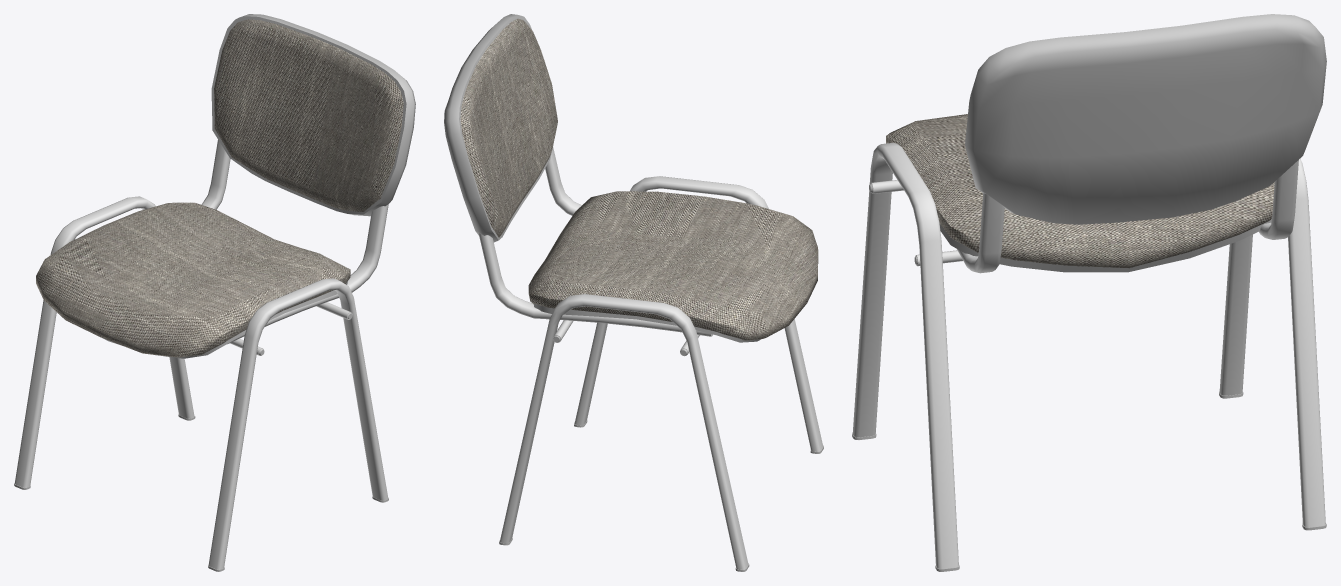
File: silla.fbx
3 renders of one model, left to right at view 1: azimuth 30°, elevation 25°; view 2: azimuth 150°, elevation 25°; view 3: azimuth 270°, elevation 25°, orthographic. The views are drawn at different scales.
Parts seen in each view (by area): view 1: sidushka.001, spinka.001, BezierCurve.003, spinka, BezierCurve.004, sidushka; view 2: sidushka.001, spinka.001, BezierCurve.003, spinka, BezierCurve.004, sidushka; view 3: spinka, BezierCurve.003, sidushka.001, BezierCurve.004, sidushka.
Part boxes in pixels (x1,y1,x2,y2): sidushka.001: (36, 202, 350, 357); spinka.001: (214, 19, 403, 211); BezierCurve.003: (14, 196, 388, 569); spinka: (211, 14, 415, 216); BezierCurve.004: (201, 140, 388, 344); sidushka: (103, 281, 347, 358); sidushka.001: (528, 191, 818, 340); spinka.001: (460, 18, 557, 237); BezierCurve.003: (500, 176, 823, 569); spinka: (444, 14, 551, 242); BezierCurve.004: (478, 147, 712, 336); sidushka: (533, 303, 760, 342); spinka: (965, 14, 1326, 224); BezierCurve.003: (852, 142, 1325, 568); sidushka.001: (886, 114, 1274, 268); BezierCurve.004: (957, 160, 1298, 273); sidushka: (939, 219, 1271, 272).
Bounding box in the file's own units: 197 × 241 × 187.
